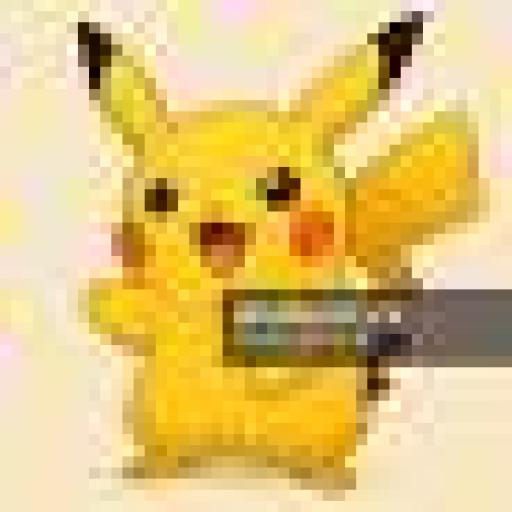Pikachu: (66, 11, 488, 500)
